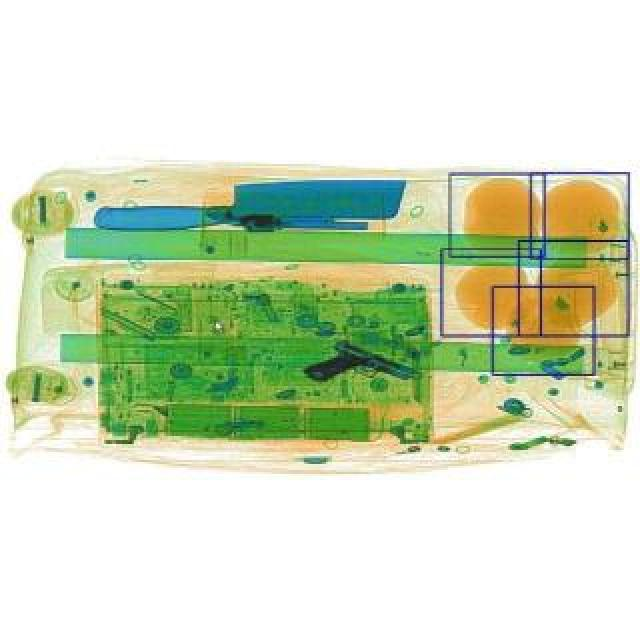gun: (300, 328, 412, 412), (206, 206, 366, 234)
knife: (94, 178, 406, 230)
